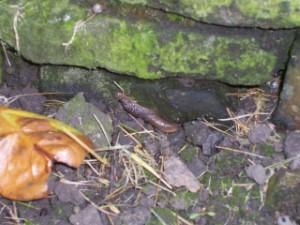slug: (113, 84, 185, 135)
